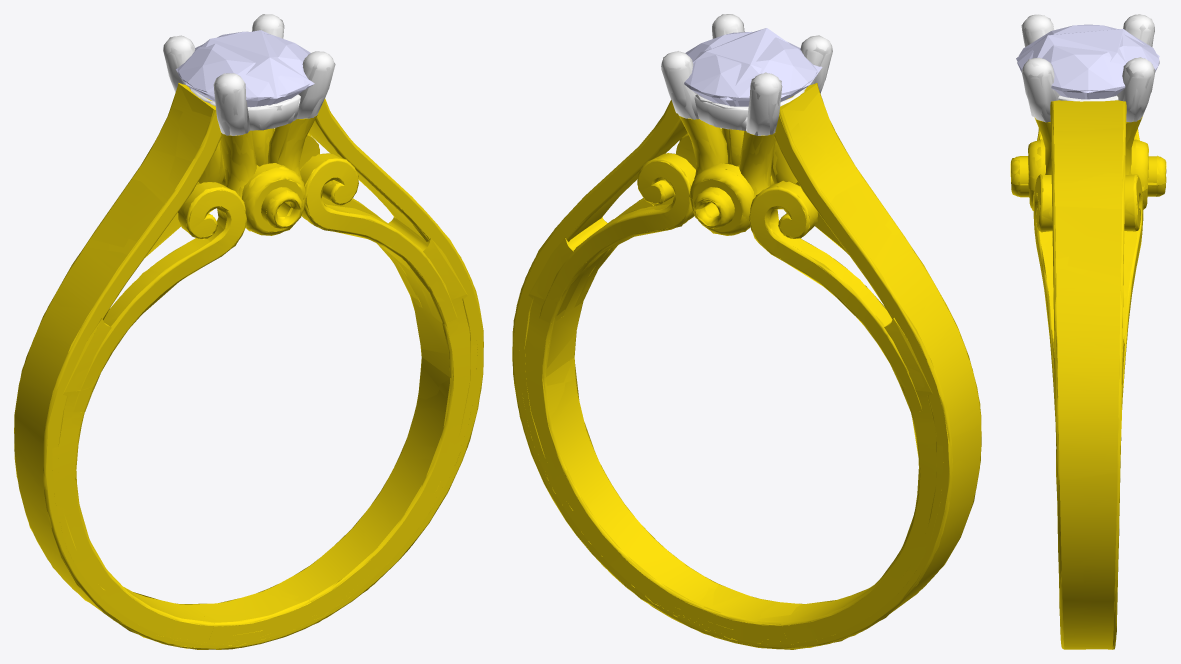
The model's file is DLR-D000668593.glb.
The picture shows the model from 3 angles, left to right: view 1: azimuth 30°, elevation 25°; view 2: azimuth 150°, elevation 25°; view 3: azimuth 270°, elevation 25°; orthographic projection.
Visible parts, largest first — view 1: highPolyMesh, lowPolyMesh; view 2: highPolyMesh, lowPolyMesh; view 3: highPolyMesh, lowPolyMesh.
Boxes of the visible parts, x1,y1,x2,y2 form: highPolyMesh: [14, 14, 483, 649]; lowPolyMesh: [14, 14, 483, 649]; highPolyMesh: [512, 14, 981, 649]; lowPolyMesh: [513, 14, 980, 649]; highPolyMesh: [1011, 14, 1165, 649]; lowPolyMesh: [1010, 14, 1166, 649].
Size of the model in its own units: 0.0192 by 0.0247 by 0.00591.
